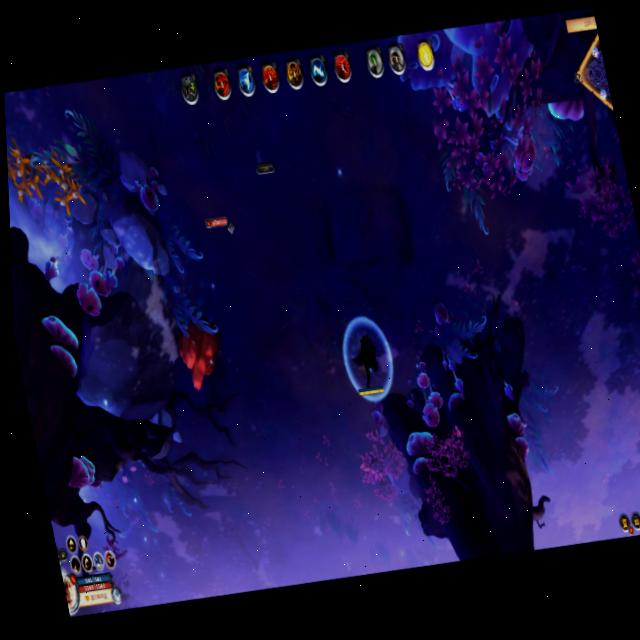hide: (33, 138, 103, 226), (6, 133, 50, 220)
red: (333, 307, 407, 416)
tree: (164, 294, 240, 401)
